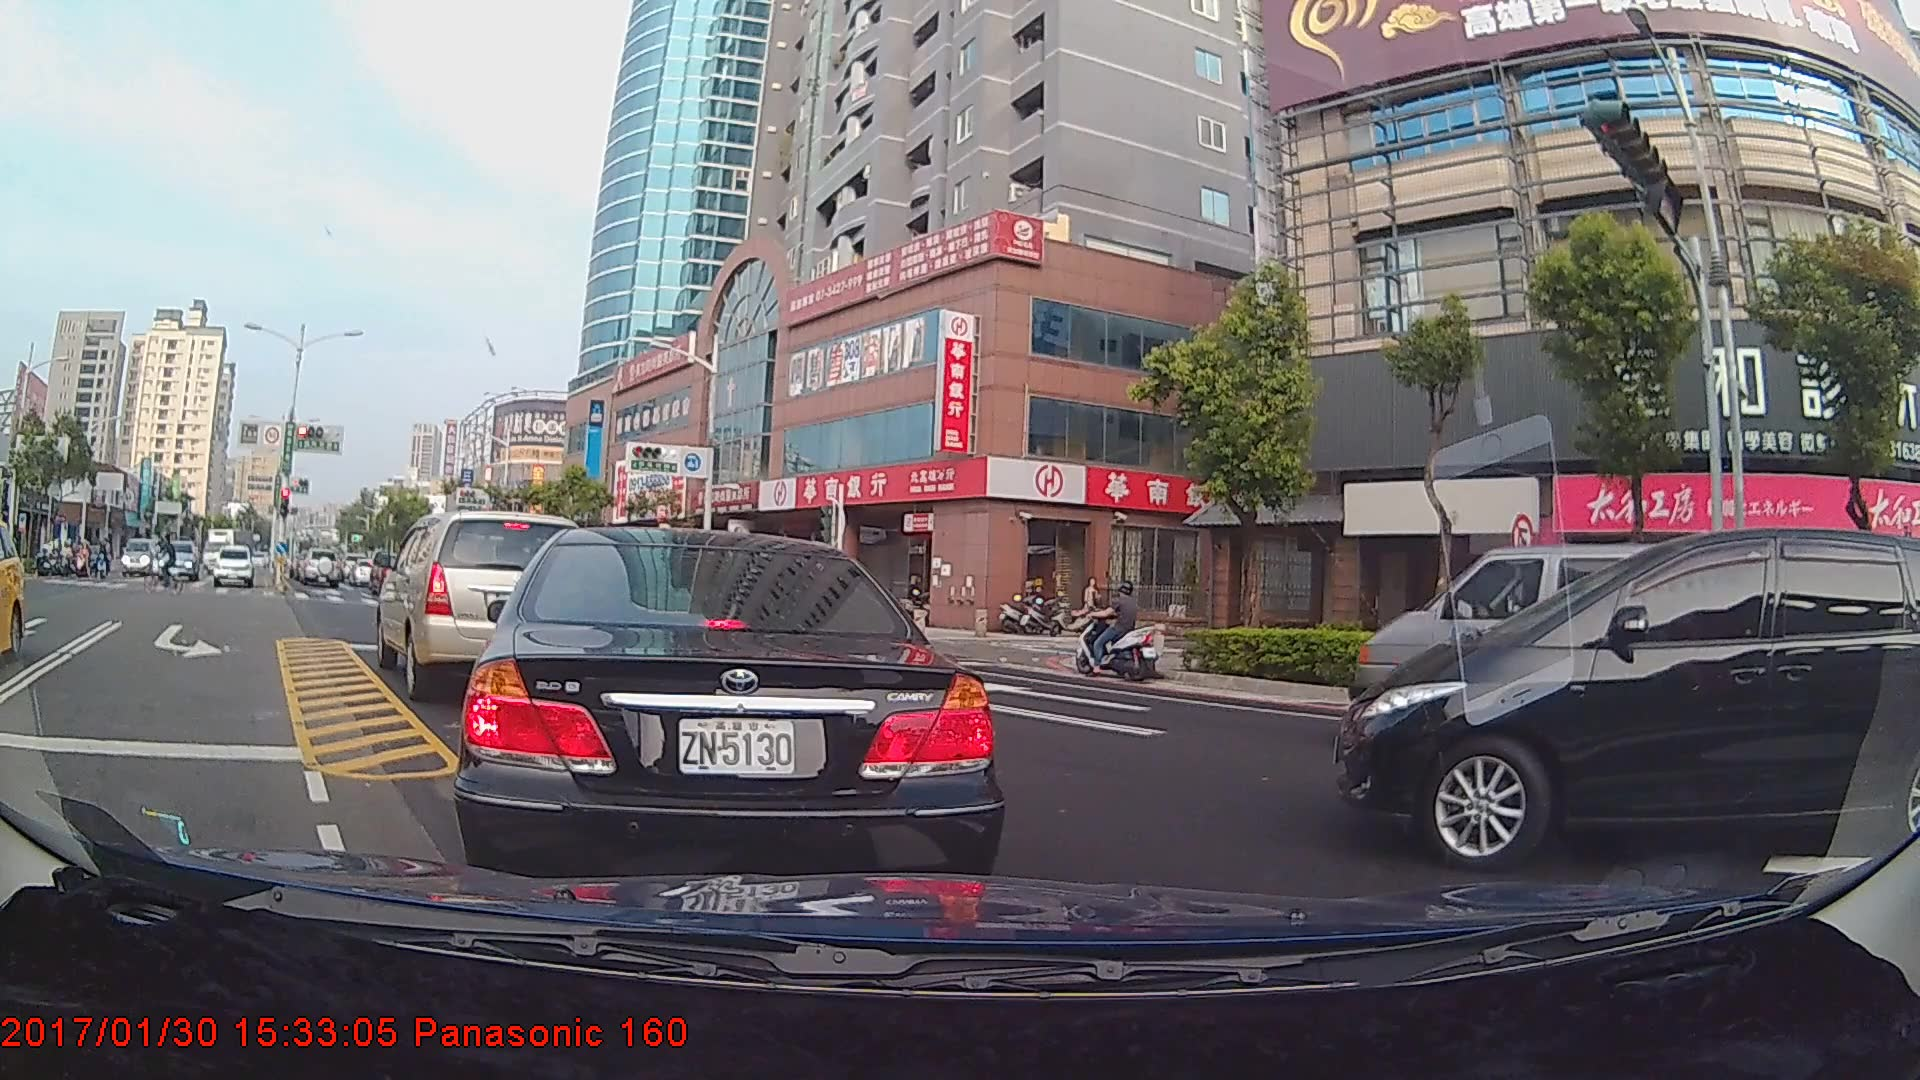pedestrian: (1081, 577, 1101, 629)
rider: (1068, 576, 1171, 687), (139, 533, 194, 597)
vehicle: (449, 520, 1007, 895), (1336, 526, 1892, 883), (1356, 538, 1723, 730), (373, 505, 588, 699), (0, 521, 25, 658), (197, 525, 255, 569), (293, 545, 347, 588), (159, 537, 202, 583), (212, 544, 254, 588), (121, 536, 160, 577)
